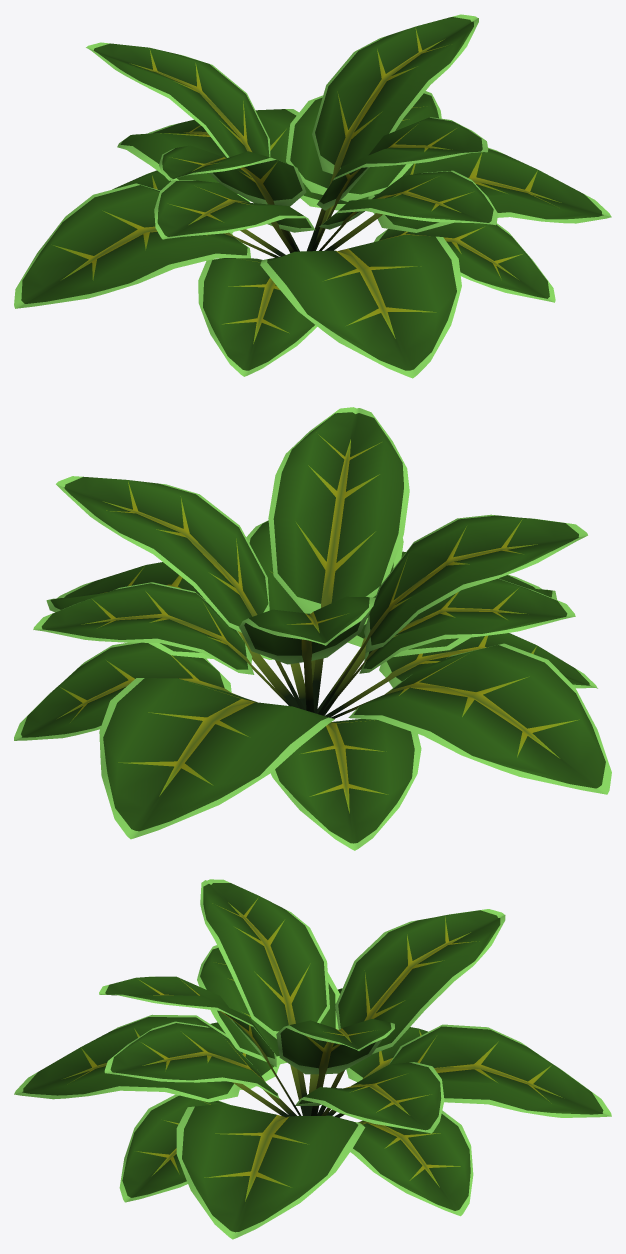
Rendered from Fosta_01.fbx.
3 views of the same model, one above another, from view 1: azimuth 30°, elevation 25°; view 2: azimuth 150°, elevation 25°; view 3: azimuth 270°, elevation 25° (orthographic). The views are drawn at different scales.
Parts seen in each view (by area): view 1: Bush_Hosta; view 2: Bush_Hosta; view 3: Bush_Hosta.
Part boxes in pixels (x1,y1,x2,y2): Bush_Hosta: (14, 14, 611, 378); Bush_Hosta: (14, 407, 611, 850); Bush_Hosta: (14, 879, 611, 1239).
Bounding box in the file's own units: 108 × 35.82 × 109.
